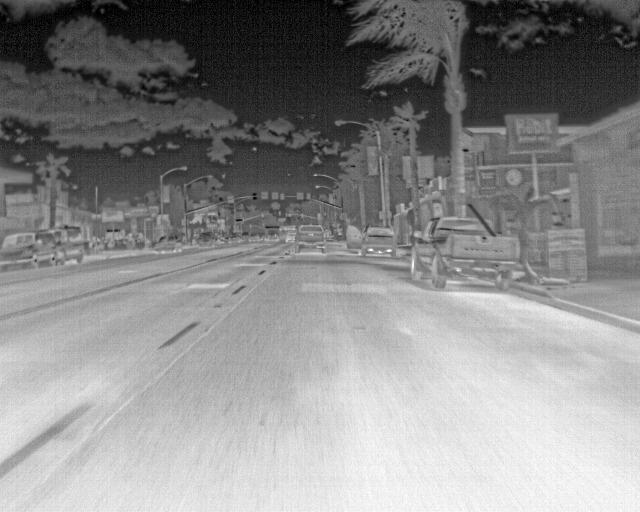car: (408, 213, 521, 291), (0, 230, 59, 273), (345, 222, 397, 259), (45, 221, 88, 265), (294, 223, 325, 257), (156, 234, 182, 255), (198, 232, 217, 248), (285, 230, 301, 244), (227, 232, 242, 246), (248, 230, 258, 243), (241, 232, 249, 244), (255, 233, 264, 242)
